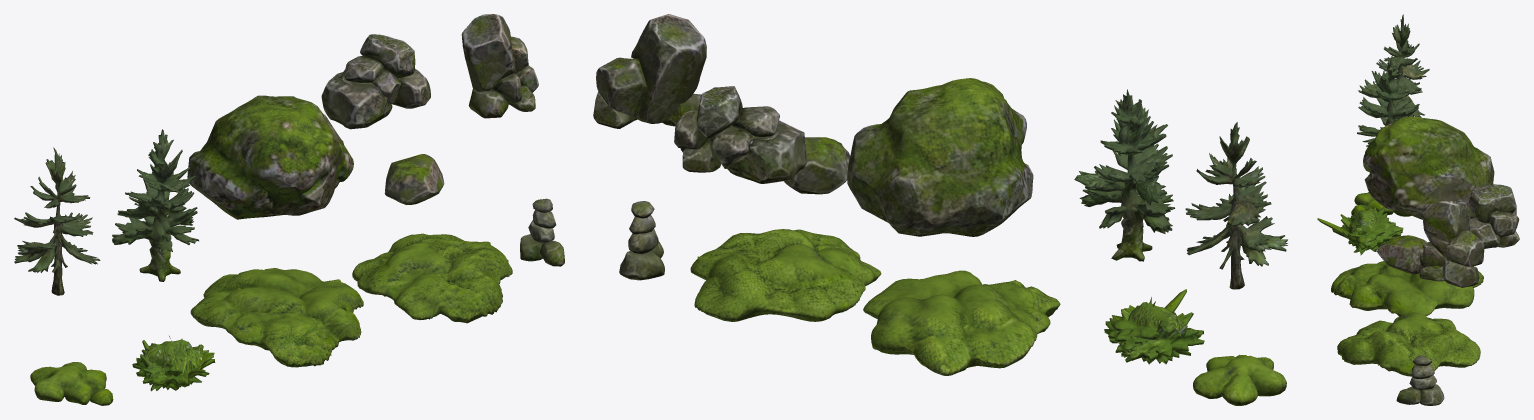
File: Mapa3 - Decorativos.glb
The picture shows the model from 3 angles, left to right: view 1: azimuth 30°, elevation 25°; view 2: azimuth 150°, elevation 25°; view 3: azimuth 270°, elevation 25°; orthographic projection. The views are drawn at different scales.
Parts seen in each view (by area): view 1: tripo_node_d8f155c4-ec6f-419e-8581-f3fd43fc5c5e; view 2: tripo_node_d8f155c4-ec6f-419e-8581-f3fd43fc5c5e; view 3: tripo_node_d8f155c4-ec6f-419e-8581-f3fd43fc5c5e.
Part boxes in pixels (box(x1,y1,x2,y2)): tripo_node_d8f155c4-ec6f-419e-8581-f3fd43fc5c5e: box(14, 14, 564, 405); tripo_node_d8f155c4-ec6f-419e-8581-f3fd43fc5c5e: box(593, 14, 1287, 405); tripo_node_d8f155c4-ec6f-419e-8581-f3fd43fc5c5e: box(1317, 14, 1519, 405).
Size of the model in its own units: 0.9362 by 0.3989 by 0.3736.
Materials: 1 (1 with a texture image).
